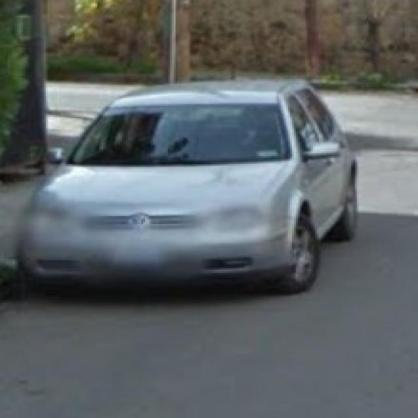car: (16, 84, 360, 295)
